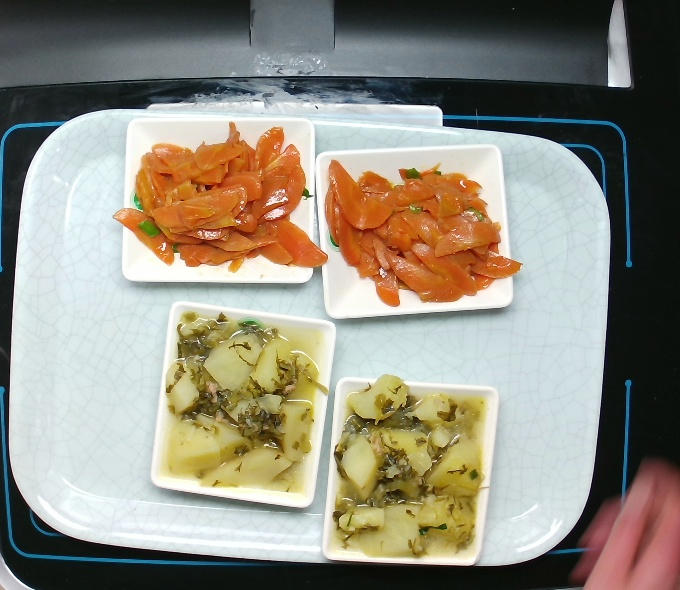wcq-HuLuoBo: (310, 155, 521, 302), (122, 139, 317, 271)
wcq-XueCaiTuDou: (329, 381, 484, 553), (164, 325, 314, 491)
